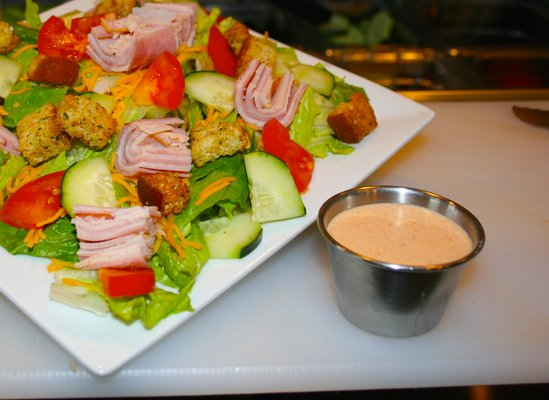pizza: (317, 185, 486, 339)
